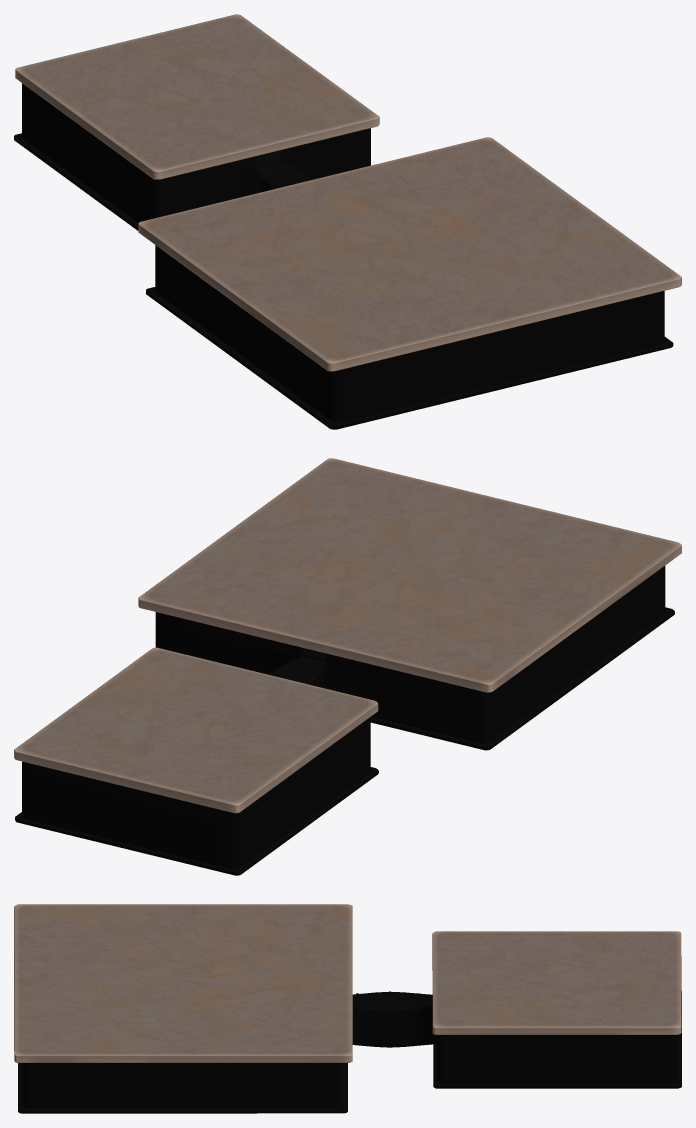
The model's file is SalaFin.fbx.
3 renders of one model, top to bottom at view 1: azimuth 30°, elevation 25°; view 2: azimuth 150°, elevation 25°; view 3: azimuth 270°, elevation 25°, orthographic. The views are drawn at different scales.
Visible parts, largest first — view 1: techos, Paredes_enteros, Suelo; view 2: techos, Paredes_enteros, Suelo; view 3: techos, Paredes_enteros, Suelo.
Part boxes in pixels (x1,y1,x2,y2): techos: [15, 14, 681, 371]; Paredes_enteros: [22, 83, 664, 422]; Suelo: [14, 133, 673, 429]; techos: [14, 458, 681, 813]; Paredes_enteros: [22, 566, 665, 868]; Suelo: [15, 607, 674, 875]; techos: [14, 904, 681, 1062]; Paredes_enteros: [23, 991, 677, 1108]; Suelo: [18, 991, 681, 1113].
Size of the model in its own units: 37.59 by 7.15 by 70.13.
